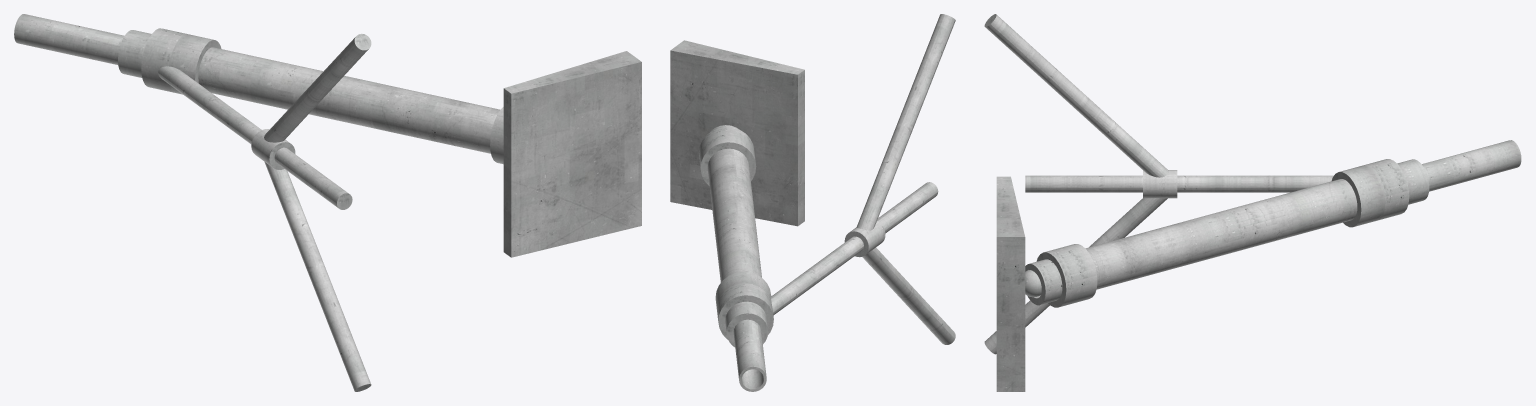
File: MortarOverMid.dae
3 renders of one model, left to right at view 1: azimuth 30°, elevation 25°; view 2: azimuth 150°, elevation 25°; view 3: azimuth 270°, elevation 25°, orthographic. The views are drawn at different scales.
Parts seen in each view (by area): view 1: group_1, group_2 (×2), group_7, group_6, group_4, group_8, group_9, group_3; view 2: group_1, group_2 (×3), group_8, group_6, group_7, group_4, group_3, group_9; view 3: group_2 (×2), group_1, group_6, group_8, group_4, group_3, group_7, group_9.
Part boxes in pixels (left/top/right/bottom): group_1: left=503, top=51, right=641, bottom=257; group_2 (×2): left=14, top=14, right=499, bottom=153; group_7: left=264, top=162, right=371, bottom=391; group_6: left=158, top=66, right=352, bottom=209; group_4: left=141, top=28, right=221, bottom=94; group_8: left=264, top=33, right=371, bottom=142; group_9: left=251, top=129, right=295, bottom=169; group_3: left=490, top=107, right=503, bottom=164; group_1: left=670, top=40, right=804, bottom=226; group_2 (×3): left=707, top=125, right=768, bottom=391; group_8: left=856, top=14, right=955, bottom=230; group_6: left=771, top=182, right=938, bottom=315; group_7: left=862, top=247, right=955, bottom=344; group_4: left=715, top=271, right=773, bottom=339; group_3: left=699, top=127, right=756, bottom=186; group_9: left=844, top=221, right=885, bottom=257; group_2 (×2): left=1025, top=140, right=1521, bottom=305; group_1: left=996, top=176, right=1025, bottom=391; group_6: left=1025, top=175, right=1333, bottom=192; group_8: left=984, top=14, right=1168, bottom=177; group_4: left=1331, top=159, right=1409, bottom=227; group_3: left=1036, top=244, right=1097, bottom=307; group_7: left=984, top=198, right=1167, bottom=354; group_9: left=1143, top=170, right=1177, bottom=198.
Bounding box in the file's own units: 27.03 × 37.05 × 25.75.
Materials: 1 (1 with a texture image).
